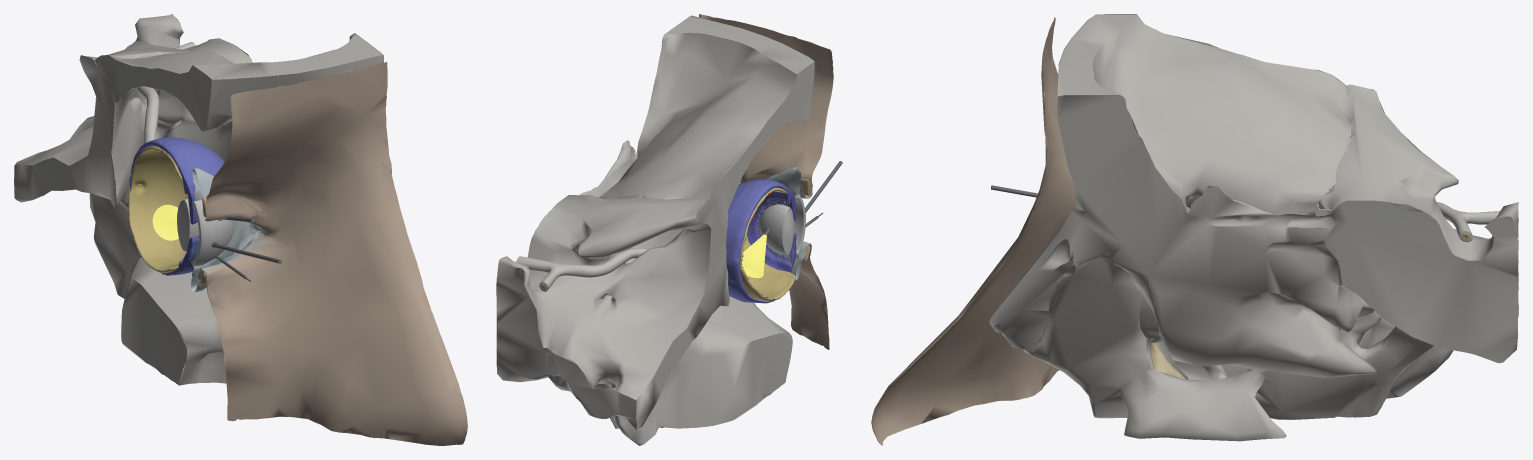
The model's file is optimized-vitrectomy-animated.glb.
3 renders of one model, left to right at view 1: azimuth 30°, elevation 25°; view 2: azimuth 150°, elevation 25°; view 3: azimuth 270°, elevation 25°, orthographic. The views are drawn at different scales.
Parts seen in each view (by area): view 1: Skin, Bones, OpticRetinaPart, Choroid1, Cornea, LightCylinder, OpticNerve, Lens, Choroid2; view 2: Bones, Skin, Choroid2, Choroid1, OpticNerve, OpticRetinaPart, Lens, LightCylinder, Cornea; view 3: Bones, Skin, OpticNerve.
Part boxes in pixels (x1=…): Skin: x1=191, y1=62, x2=467, y2=445; Bones: x1=14, y1=14, x2=383, y2=385; OpticRetinaPart: x1=128, y1=146, x2=188, y2=273; Choroid1: x1=129, y1=137, x2=224, y2=275; Cornea: x1=191, y1=200, x2=233, y2=266; LightCylinder: x1=152, y1=204, x2=254, y2=240; OpticNerve: x1=126, y1=42, x2=195, y2=143; Lens: x1=177, y1=198, x2=199, y2=251; Choroid2: x1=130, y1=137, x2=221, y2=275; Bones: x1=496, y1=15, x2=814, y2=445; Skin: x1=699, y1=14, x2=833, y2=349; Choroid2: x1=726, y1=179, x2=796, y2=303; Choroid1: x1=729, y1=179, x2=796, y2=301; OpticNerve: x1=516, y1=248, x2=647, y2=291; OpticRetinaPart: x1=739, y1=187, x2=795, y2=300; Lens: x1=759, y1=204, x2=793, y2=255; LightCylinder: x1=742, y1=228, x2=769, y2=278; Cornea: x1=793, y1=194, x2=805, y2=255; Bones: x1=989, y1=14, x2=1518, y2=441; Skin: x1=871, y1=17, x2=1075, y2=445; OpticNerve: x1=1436, y1=202, x2=1499, y2=242.
Size of the model in its own units: 34.79 by 64.79 by 107.
